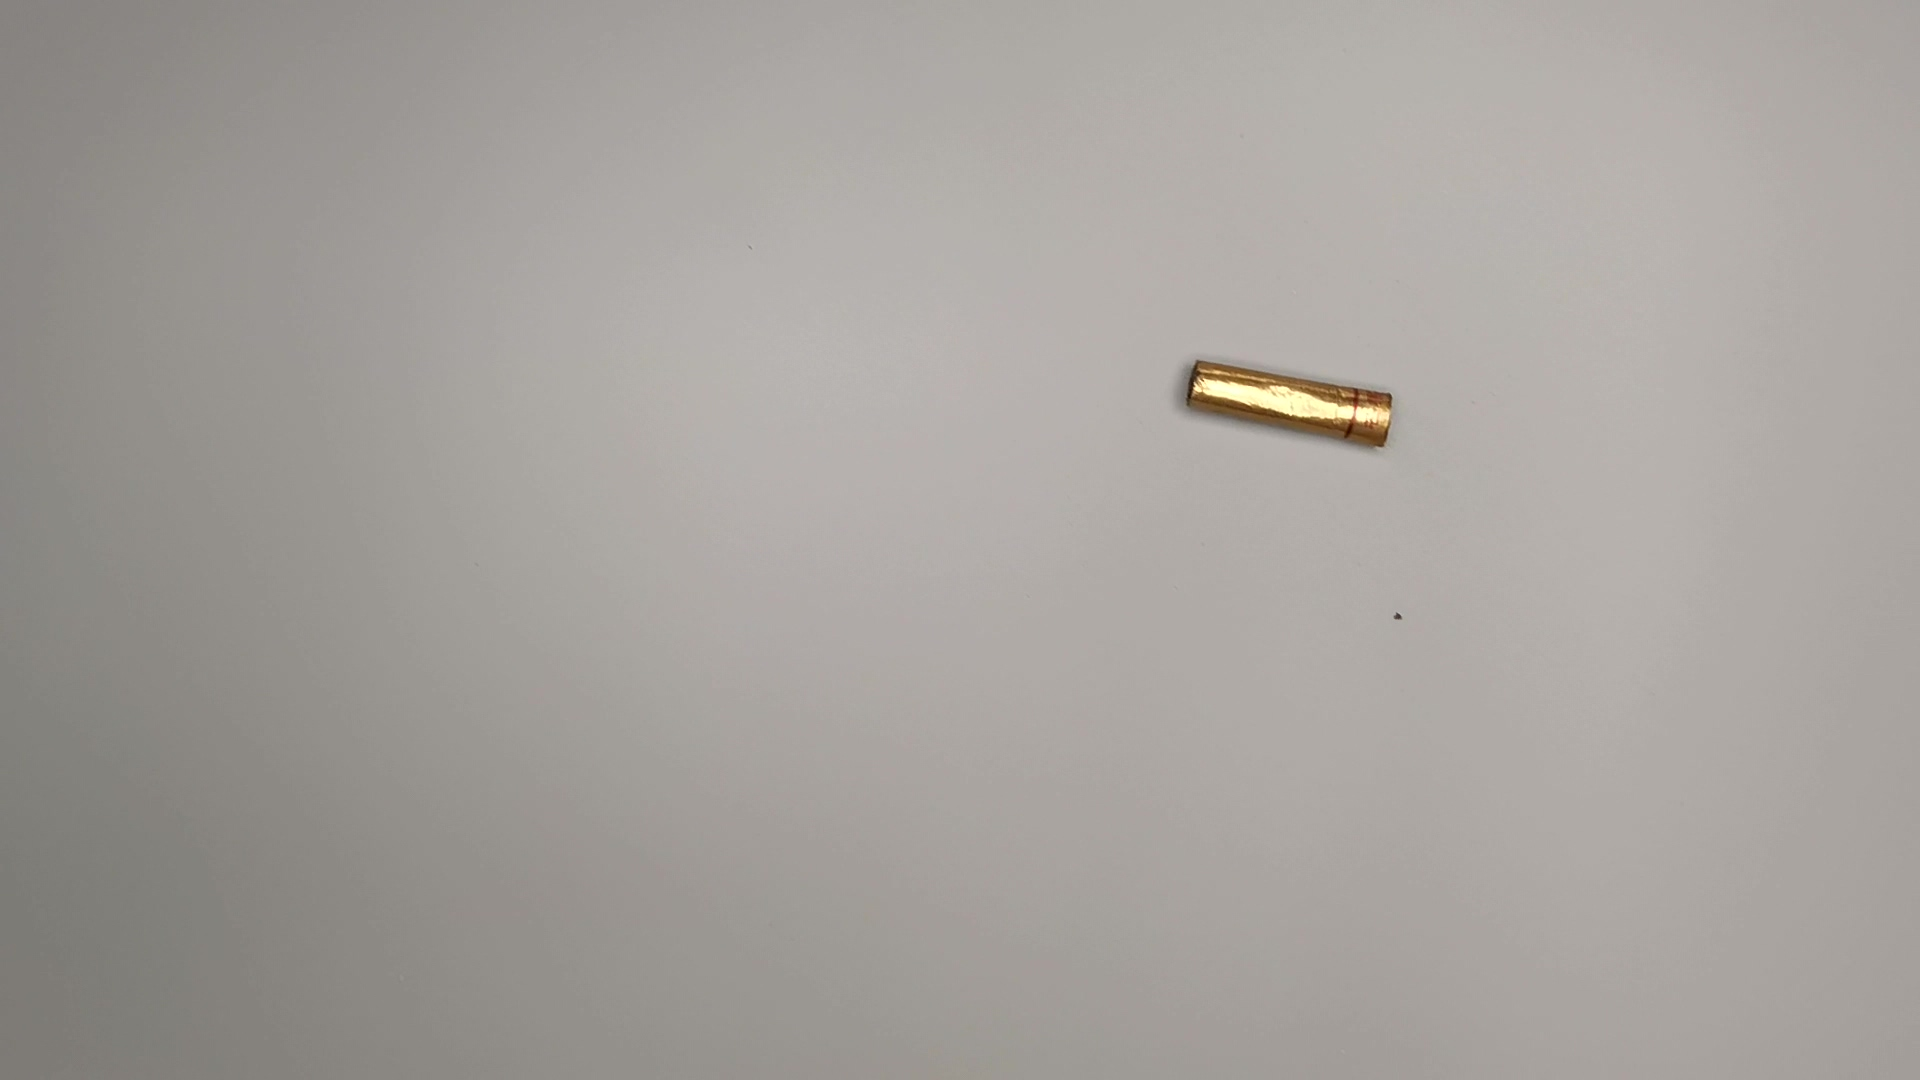cigarette: (1170, 353, 1411, 458)
